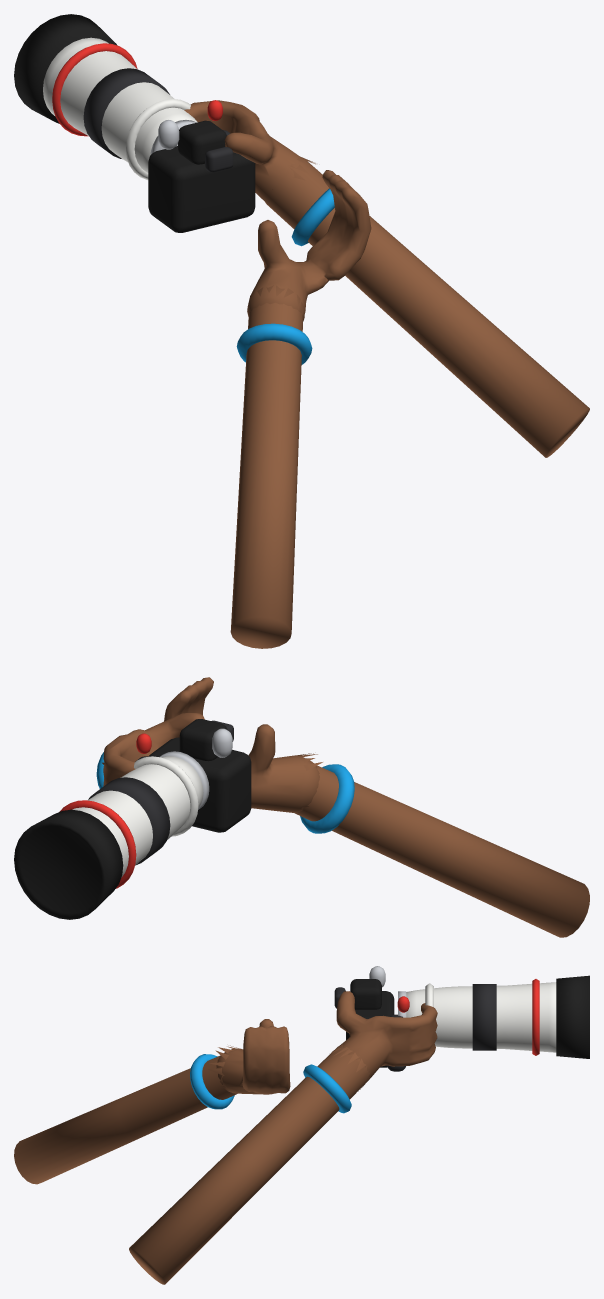
The model's file is lens.glb.
3 views of the same model, one above another, from view 1: azimuth 30°, elevation 25°; view 2: azimuth 150°, elevation 25°; view 3: azimuth 270°, elevation 25° (orthographic). The views are drawn at different scales.
Parts seen in each view (by area): view 1: R, L; view 2: R, L; view 3: R, L.
Part boxes in pixels (left/top/right/bottom): R: left=14, top=14, right=589, bottom=457; L: left=230, top=170, right=371, bottom=648; R: left=14, top=713, right=251, bottom=919; L: left=164, top=677, right=589, bottom=937; R: left=129, top=966, right=589, bottom=1284; L: left=14, top=1019, right=290, bottom=1184.
Size of the model in its own units: 0.7215 by 0.5425 by 1.08.
